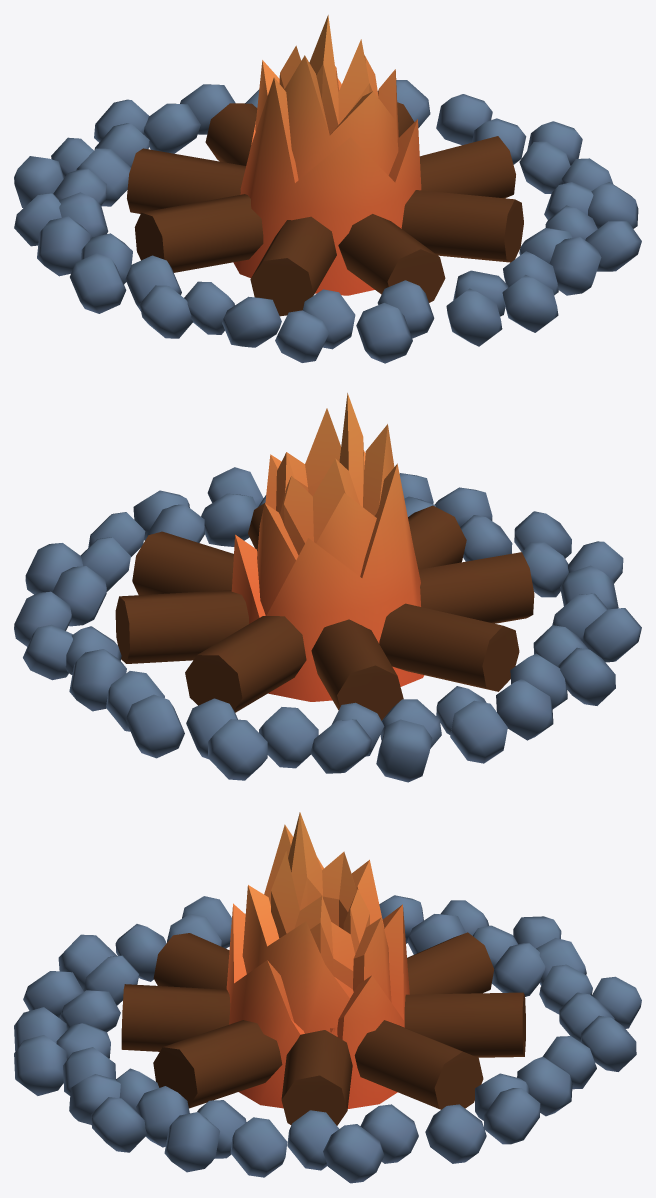
The model's file is FirePlace.FBX.
The picture shows the model from 3 angles, top to bottom: view 1: azimuth 30°, elevation 25°; view 2: azimuth 150°, elevation 25°; view 3: azimuth 270°, elevation 25°; orthographic projection. The views are drawn at different scales.
Parts seen in each view (by area): view 1: polySurface41, polySurface5, polySurface51, polySurface49, polySurface50; view 2: polySurface41, polySurface5, polySurface51, polySurface49, polySurface50; view 3: polySurface41, polySurface5, polySurface51, polySurface49, polySurface50.
Boxes of the visible parts, x1,y1,x2,y2 form: polySurface41: (14,80,641,363); polySurface5: (127,102,523,316); polySurface51: (233,77,421,295); polySurface49: (255,55,398,179); polySurface50: (279,15,378,135); polySurface41: (14,467,641,782); polySurface5: (115,503,534,720); polySurface51: (231,463,424,701); polySurface49: (257,424,394,615); polySurface50: (276,393,364,555); polySurface41: (14,895,641,1183); polySurface5: (121,932,525,1125); polySurface51: (226,857,409,1108); polySurface49: (242,824,391,1036); polySurface50: (271,812,369,989).
Bounding box in the file's own units: 33.96 × 15.54 × 34.54.
